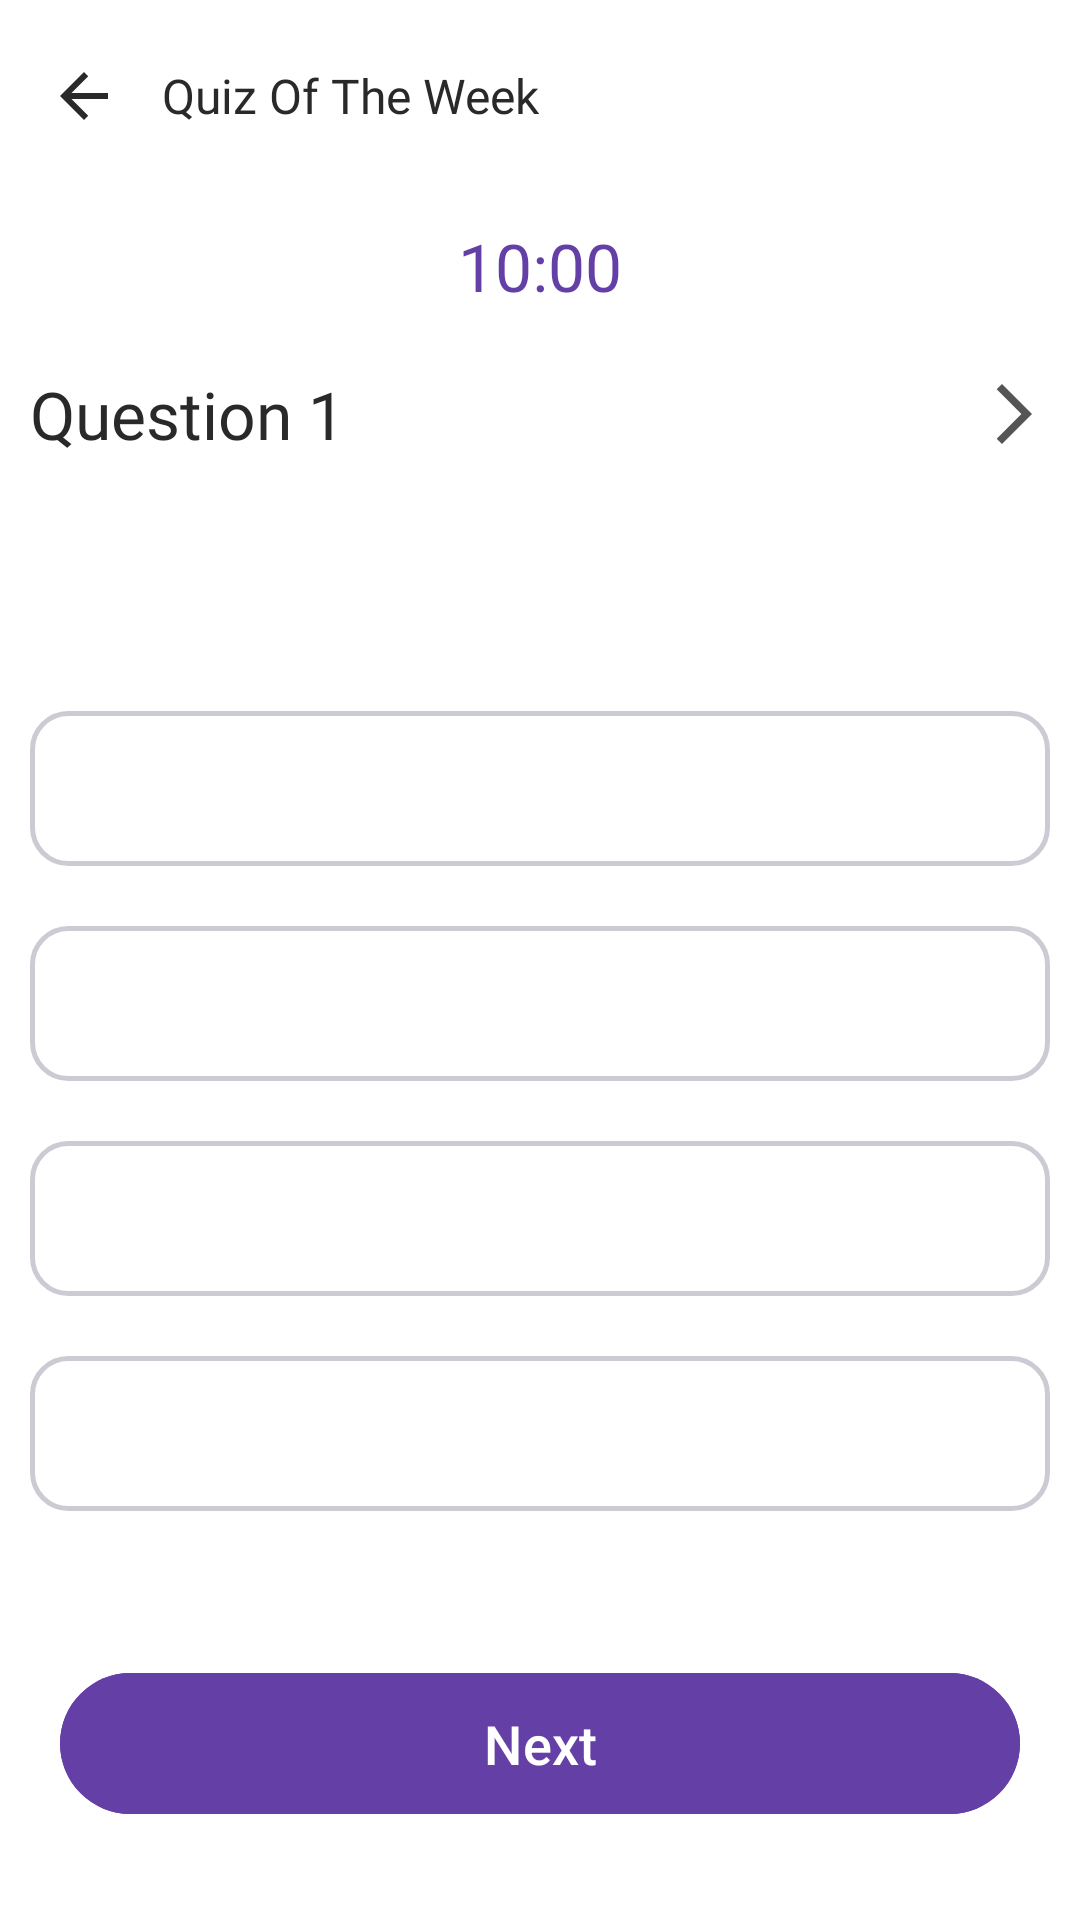

Where to tap for icons on this 1080px×1920px app screen, as (x,y):
back: (84,96)
quiz arrow right: (1014,414)
